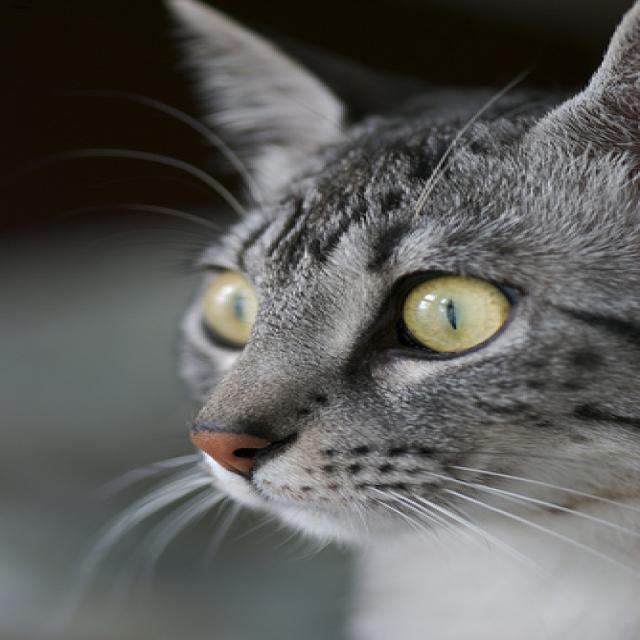Egyptian_Mau: (165, 0, 634, 547)
